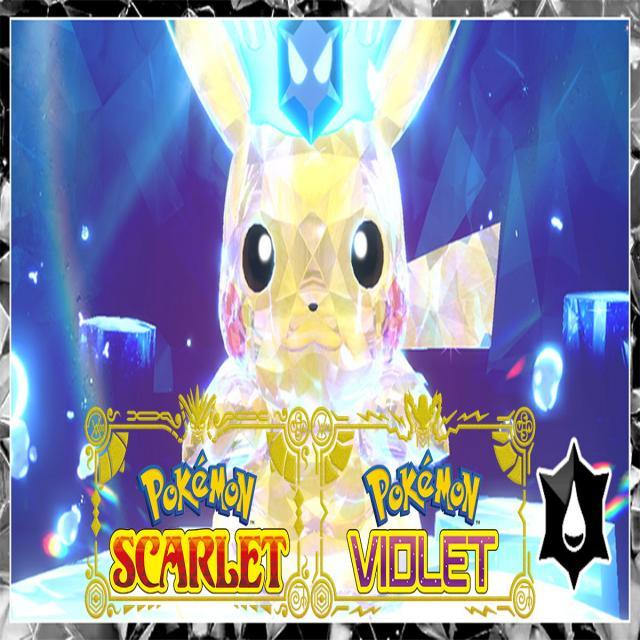Pikachu: (127, 22, 519, 550)
